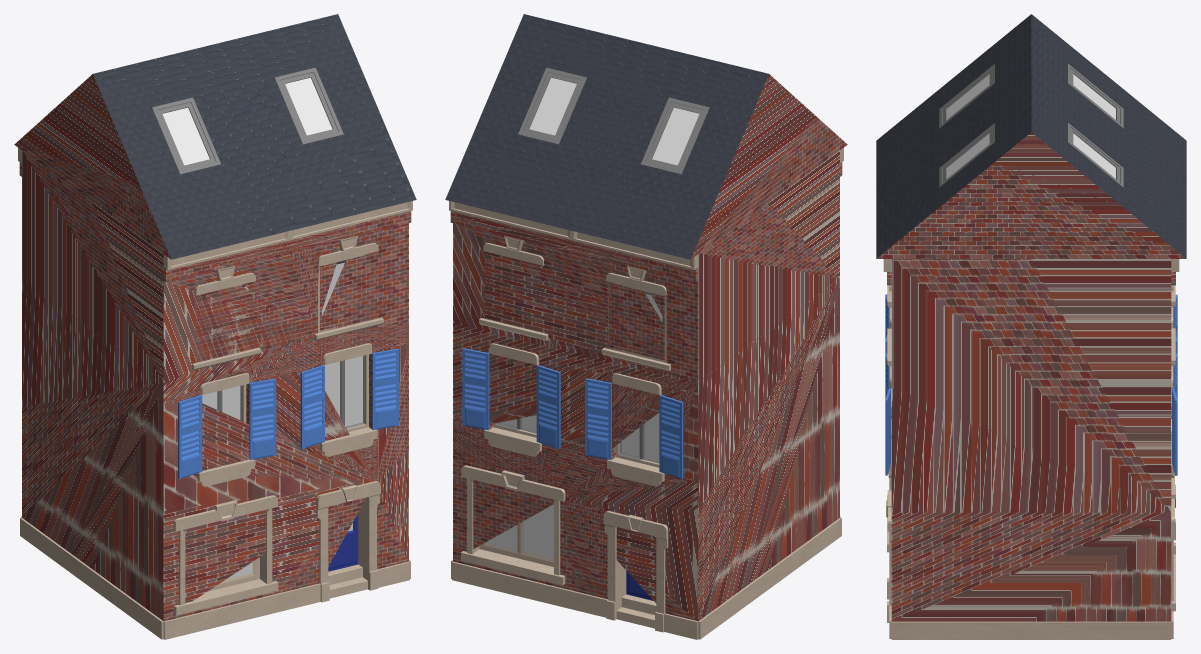
File: Amiennoise1_bis.fbx
3 views of the same model, side by side, from view 1: azimuth 30°, elevation 25°; view 2: azimuth 150°, elevation 25°; view 3: azimuth 270°, elevation 25° (orthographic).
Parts seen in each view (by area): view 1: Amiennoise1_LOD2; view 2: Amiennoise1_LOD2; view 3: Amiennoise1_LOD2.
Part boxes in pixels (box(x1,y1,x2,y2)): Amiennoise1_LOD2: box(14, 14, 416, 639); Amiennoise1_LOD2: box(445, 14, 847, 639); Amiennoise1_LOD2: box(876, 14, 1186, 639).
Bounding box in the file's own units: 609 × 1200 × 666.
